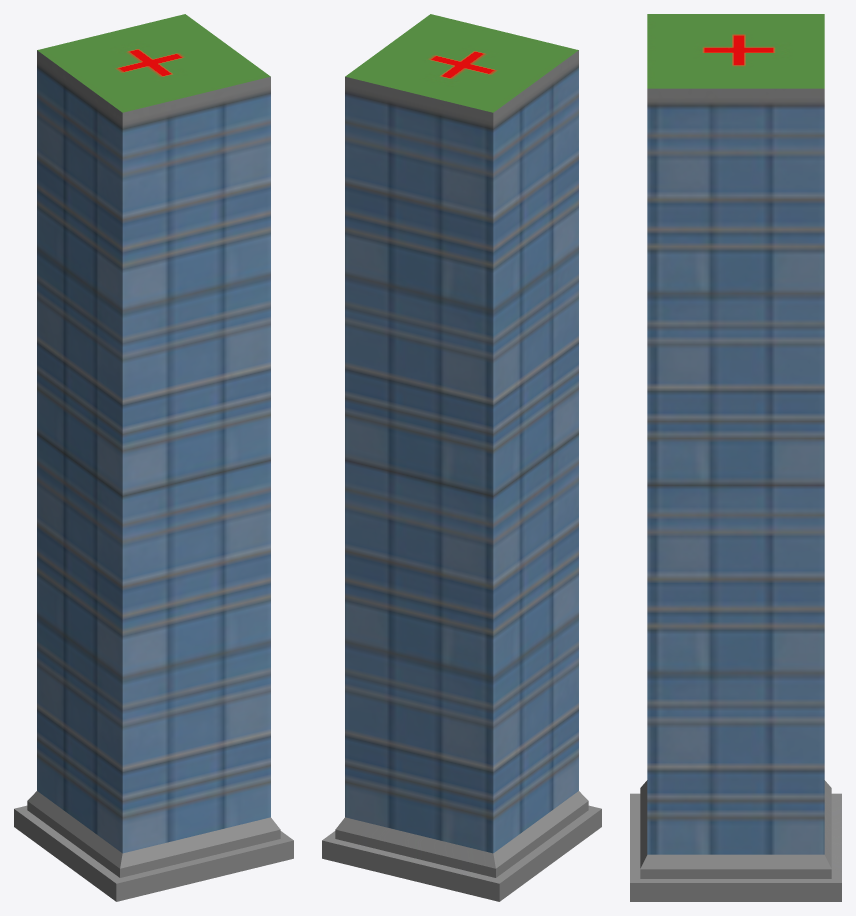
Rendered from obj_office_1.fbx.
3 renders of one model, left to right at view 1: azimuth 30°, elevation 25°; view 2: azimuth 150°, elevation 25°; view 3: azimuth 270°, elevation 25°, orthographic. The views are drawn at different scales.
Parts seen in each view (by area): view 1: pCube4; view 2: pCube4; view 3: pCube4.
Boxes of the visible parts, left/top/right/bottom form: pCube4: left=14, top=14, right=293, bottom=901; pCube4: left=322, top=14, right=601, bottom=901; pCube4: left=630, top=14, right=841, bottom=901.
Bounding box in the file's own units: 6.73 × 28.23 × 6.73.
